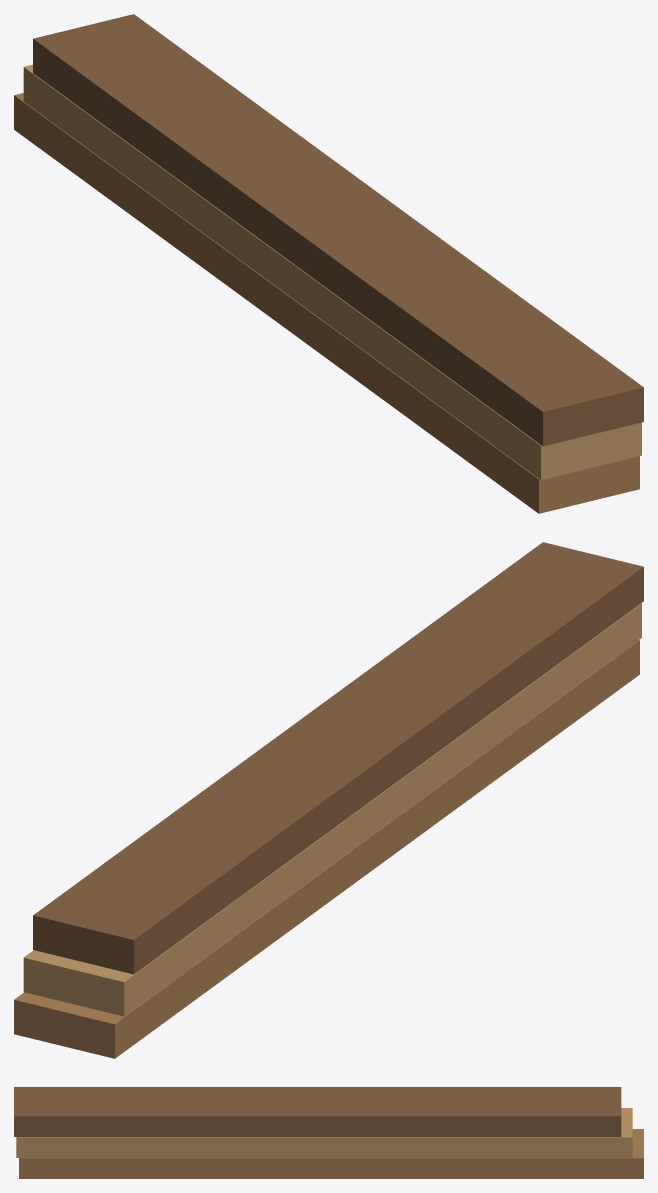
Rendered from MAT_Planks.glb.
3 views of the same model, one above another, from view 1: azimuth 30°, elevation 25°; view 2: azimuth 150°, elevation 25°; view 3: azimuth 270°, elevation 25° (orthographic). The views are drawn at different scales.
Visible parts, largest first — view 1: Plank3, Plank1, Plank2; view 2: Plank3, Plank1, Plank2; view 3: Plank3, Plank1, Plank2.
Part boxes in pixels (box(x1,y1,x2,y2)): Plank3: box(33, 14, 643, 446); Plank1: box(14, 93, 639, 513); Plank2: box(23, 64, 641, 479); Plank3: box(33, 542, 643, 974); Plank1: box(14, 640, 639, 1058); Plank2: box(23, 603, 641, 1016); Plank3: box(14, 1087, 621, 1136); Plank1: box(19, 1129, 643, 1178); Plank2: box(16, 1108, 632, 1157).
Bounding box in the file's own units: 0.141 × 0.14 × 1.28.
